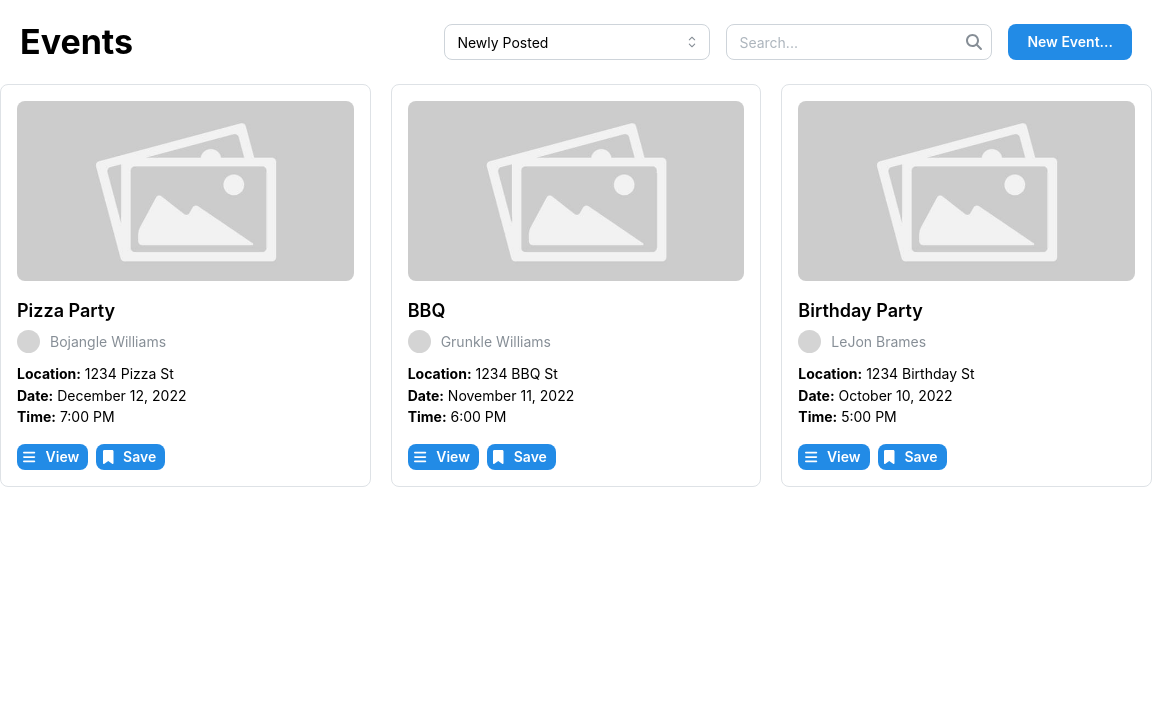
Test: Events Page › Event cards close properly after having their modal opened
Click the button "View" below "7:00 PM" at (53, 457), box [17,444,88,470]
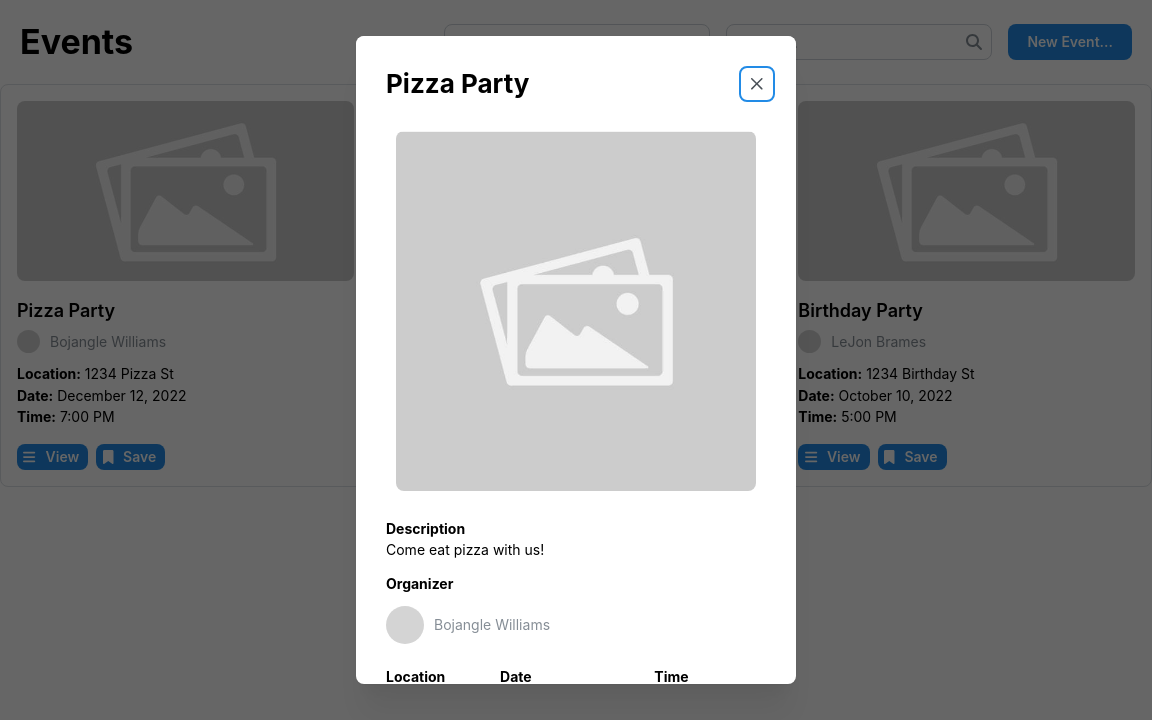
Expected: the heading "Description" is shown, [386,520,465,537]
Expected: the button named "Close Modal" is shown
Click the button named "Close Modal" at (757, 84), box [743,70,771,98]
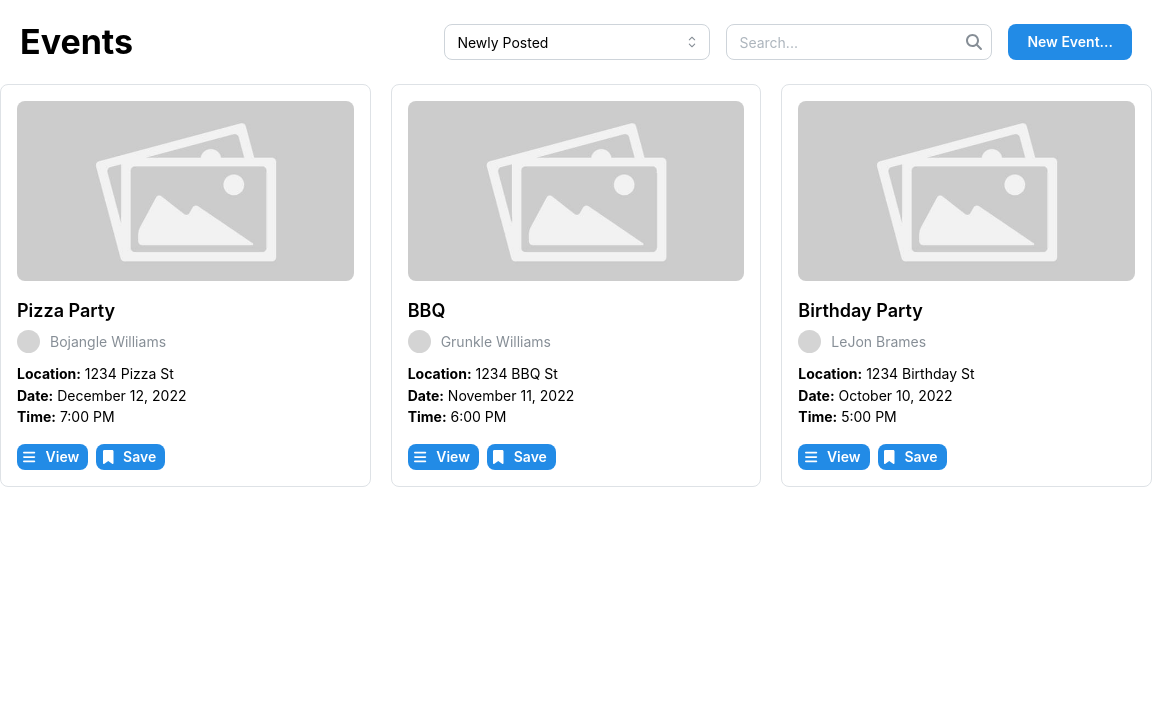
Expected: the heading "Description" is gone
